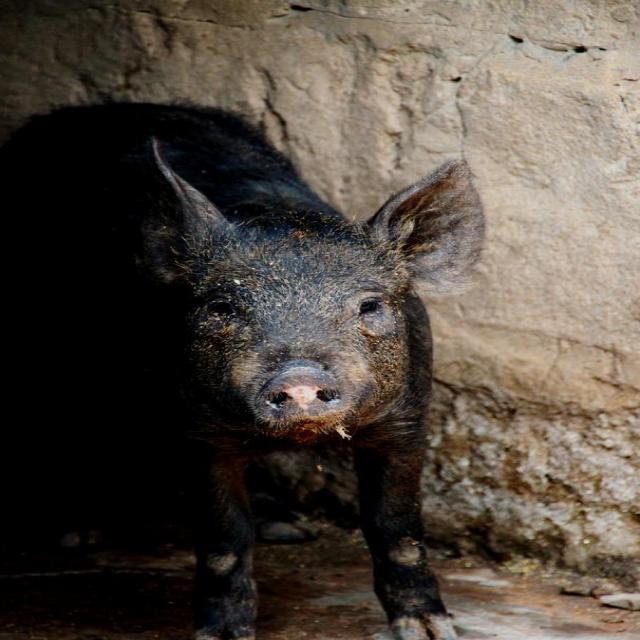pig: (2, 102, 484, 640)
